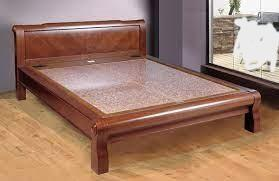Bed-Mattress: (8, 14, 267, 166)
